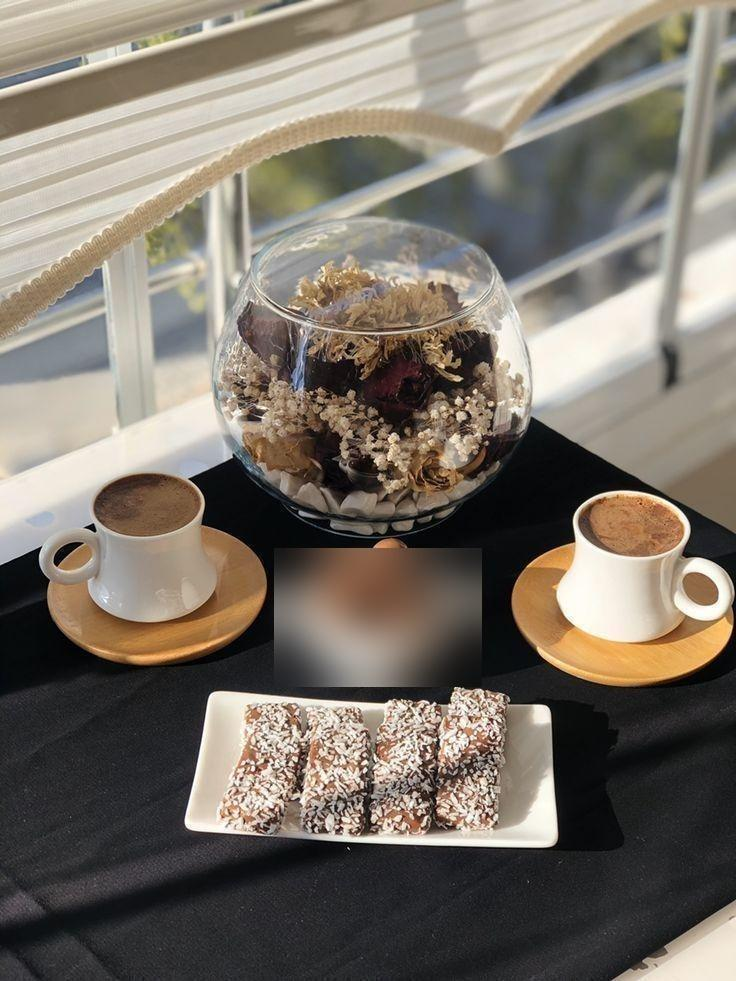cup-handle: (38, 470, 219, 623), (556, 488, 731, 644)
